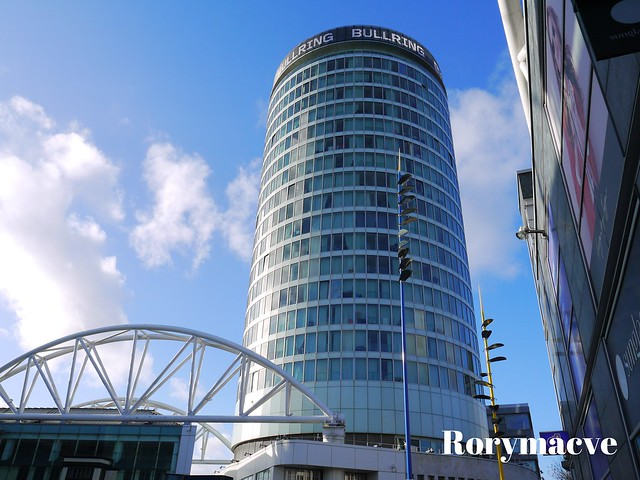low: (237, 24, 502, 479)
